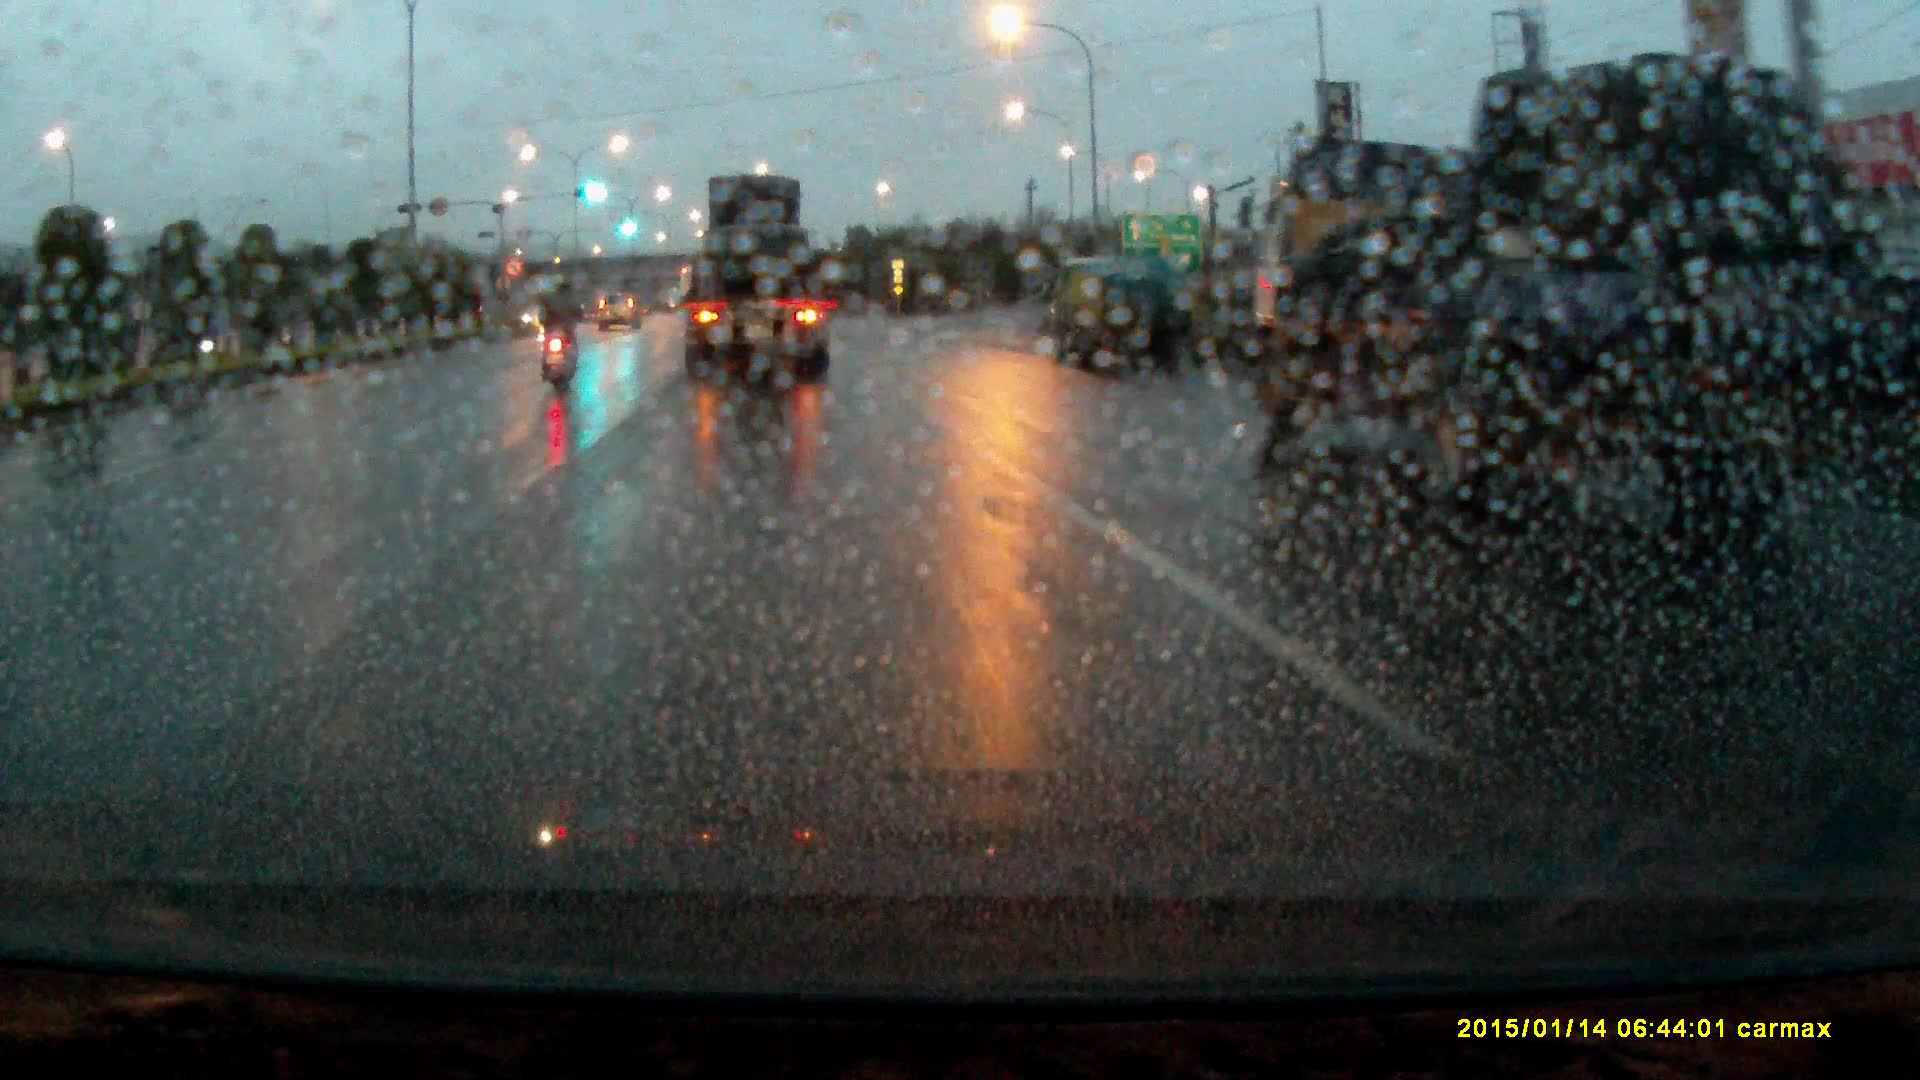rider: (536, 272, 587, 395)
vehicle: (1245, 76, 1892, 533), (676, 172, 835, 388), (1035, 259, 1197, 367), (600, 293, 645, 336)
